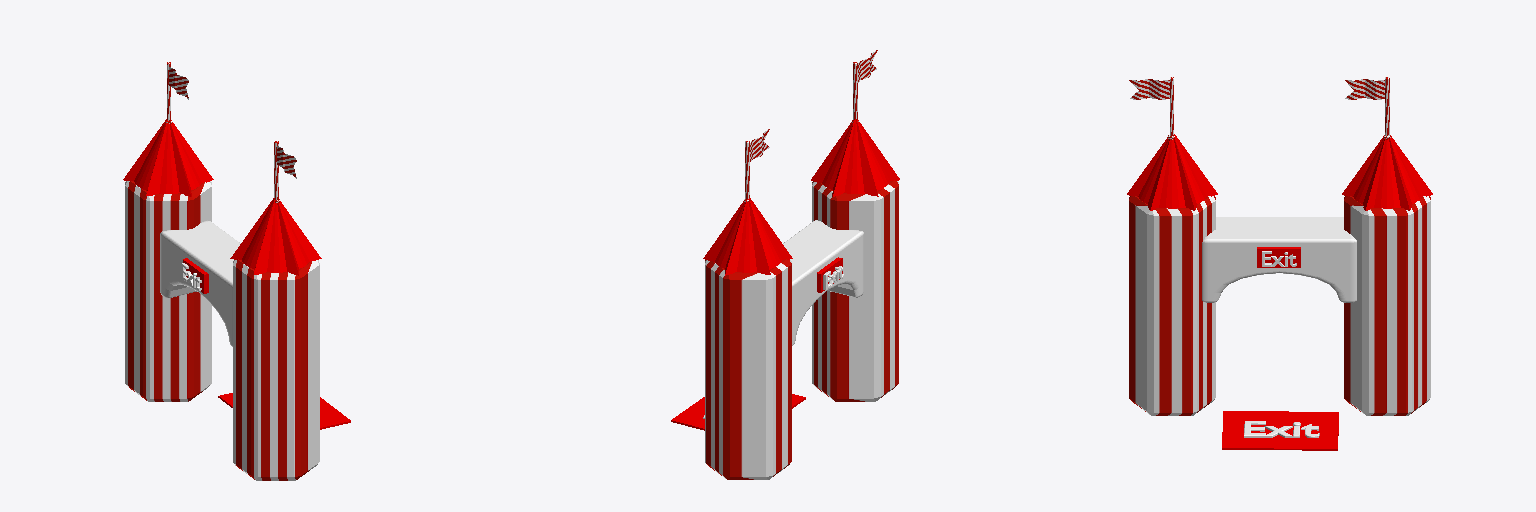
The picture shows the model from 3 angles: view 1: azimuth 30°, elevation 25°; view 2: azimuth 150°, elevation 25°; view 3: azimuth 270°, elevation 25°; orthographic projection.
Parts seen in each view (by area): view 1: Circle.001_Material, Circle.002_Material, Cube.002_white, Cone.002_red, Cone_red, Cube.001_red, Plane_Material, Plane.001_Material; view 2: Circle.002_Material, Circle.001_Material, Cube.002_white, Cone_red, Cone.002_red, Cube.001_red, Plane.001_Material, Plane_Material; view 3: Circle.002_Material, Circle.001_Material, Cube.002_white, Cone_red, Cone.002_red, Cube.001_red, Plane.001_Material, Plane_Material, Exit.001_white, Cube_red.
Boxes of the visible parts, x1=… form: Circle.001_Material: x1=233, y1=259, x2=319, y2=480; Circle.002_Material: x1=125, y1=181, x2=211, y2=401; Cube.002_white: x1=160, y1=220, x2=240, y2=346; Cone.002_red: x1=123, y1=119, x2=213, y2=196; Cone_red: x1=230, y1=198, x2=321, y2=275; Cube.001_red: x1=218, y1=393, x2=350, y2=429; Plane_Material: x1=273, y1=141, x2=296, y2=202; Plane.001_Material: x1=166, y1=62, x2=188, y2=123; Circle.002_Material: x1=705, y1=259, x2=791, y2=479; Circle.001_Material: x1=812, y1=180, x2=898, y2=401; Cube.002_white: x1=783, y1=220, x2=863, y2=345; Cone_red: x1=811, y1=119, x2=899, y2=196; Cone.002_red: x1=703, y1=198, x2=792, y2=275; Cube.001_red: x1=671, y1=394, x2=805, y2=430; Plane.001_Material: x1=744, y1=129, x2=769, y2=201; Plane_Material: x1=852, y1=50, x2=877, y2=122; Circle.002_Material: x1=1344, y1=196, x2=1430, y2=415; Circle.001_Material: x1=1129, y1=196, x2=1215, y2=415; Cube.002_white: x1=1202, y1=217, x2=1356, y2=302; Cone_red: x1=1127, y1=134, x2=1217, y2=210; Cone.002_red: x1=1342, y1=136, x2=1432, y2=210; Cube.001_red: x1=1222, y1=411, x2=1338, y2=450; Plane.001_Material: x1=1345, y1=77, x2=1390, y2=139; Plane_Material: x1=1129, y1=77, x2=1174, y2=139; Exit.001_white: x1=1244, y1=421, x2=1319, y2=437; Cube_red: x1=1257, y1=247, x2=1300, y2=267.
Size of the model in its own units: 4.46 by 10.12 by 8.69.
4 materials, 3 textured.